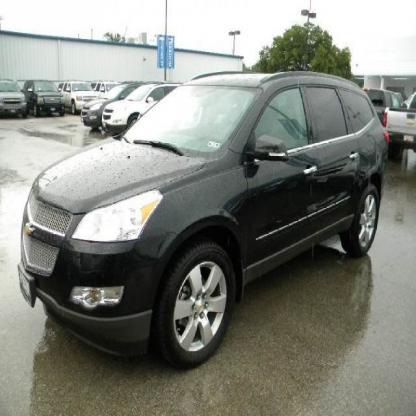Vehicle: (9, 71, 387, 366)
